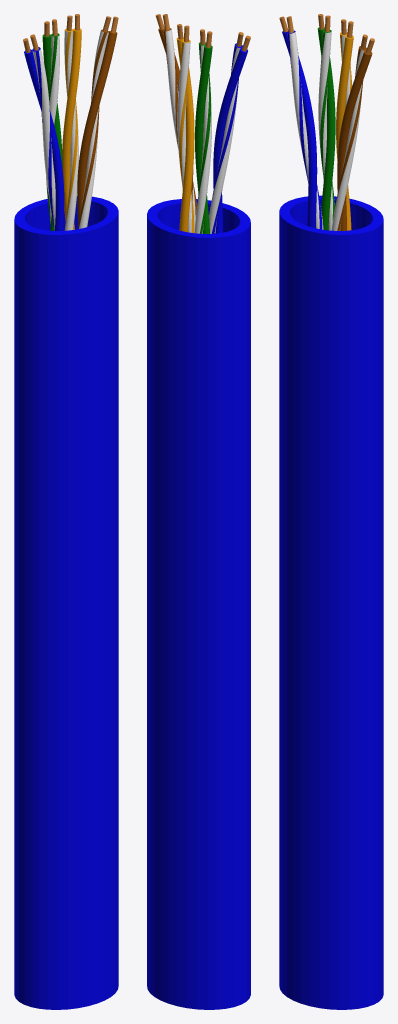
The model's file is remodelCable.fbx.
The picture shows the model from 3 angles, left to right: view 1: azimuth 30°, elevation 25°; view 2: azimuth 150°, elevation 25°; view 3: azimuth 330°, elevation 25°; orthographic projection.
Visible parts, largest first — view 1: Cylinder, Brown.003, Orange, White/Blue, Orange.001, Brown.001, White/Blue.001, White/Green.003, White/Green.001; view 2: Cylinder, Orange, White/Green.003, Orange.001, White/Blue, White/Green.001, White/Blue.001, Brown.001, Brown.003; view 3: Cylinder, White/Blue.001, White/Green.001, White/Blue, White/Green.003, Brown.001, Brown.003, Orange, Orange.001.
Part boxes in pixels (x1=…): Cylinder: x1=14, y1=196, x2=118, y2=1009; Brown.003: x1=77, y1=16, x2=118, y2=225; Orange: x1=62, y1=14, x2=81, y2=229; White/Blue: x1=30, y1=34, x2=55, y2=230; Orange.001: x1=64, y1=15, x2=78, y2=230; Brown.001: x1=78, y1=16, x2=111, y2=228; White/Blue.001: x1=23, y1=38, x2=64, y2=230; White/Green.003: x1=46, y1=19, x2=59, y2=224; White/Green.001: x1=42, y1=21, x2=62, y2=230; Cylinder: x1=147, y1=199, x2=250, y2=1009; Orange: x1=176, y1=24, x2=194, y2=232; White/Green.003: x1=194, y1=29, x2=211, y2=233; Orange.001: x1=177, y1=25, x2=194, y2=232; White/Blue: x1=209, y1=32, x2=243, y2=233; White/Green.001: x1=195, y1=31, x2=212, y2=233; White/Blue.001: x1=213, y1=35, x2=250, y2=233; Brown.001: x1=162, y1=14, x2=196, y2=224; Brown.003: x1=155, y1=14, x2=193, y2=199; Cylinder: x1=279, y1=195, x2=383, y2=1009; White/Blue.001: x1=279, y1=16, x2=317, y2=228; White/Green.001: x1=317, y1=14, x2=335, y2=230; White/Blue: x1=286, y1=16, x2=323, y2=229; White/Green.003: x1=318, y1=15, x2=334, y2=230; Brown.001: x1=331, y1=34, x2=367, y2=230; Brown.003: x1=337, y1=38, x2=374, y2=230; Orange: x1=336, y1=21, x2=353, y2=230; Orange.001: x1=340, y1=19, x2=352, y2=198.
Size of the model in its own units: 128 by 1250 by 102.
